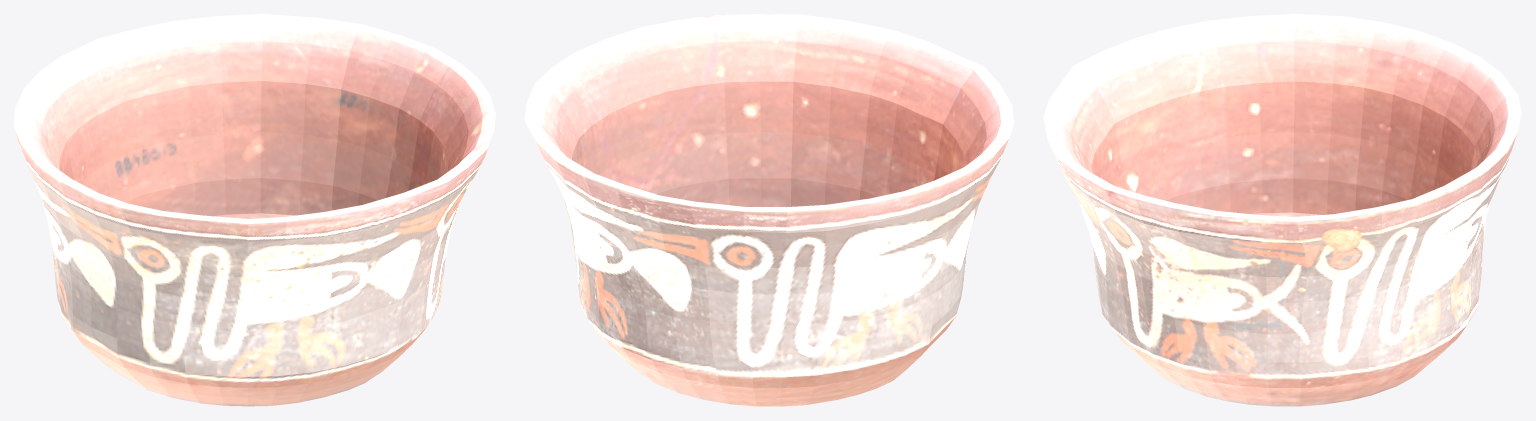
The model's file is objeto_9_nasca.glb.
3 renders of one model, left to right at view 1: azimuth 30°, elevation 25°; view 2: azimuth 150°, elevation 25°; view 3: azimuth 270°, elevation 25°, orthographic.
Visible parts, largest first — view 1: Box001; view 2: Box001; view 3: Box001.
Boxes of the visible parts, x1,y1,x2,y2 form: Box001: (14, 14, 495, 406); Box001: (524, 14, 1014, 406); Box001: (1043, 14, 1521, 406).
Bounding box in the file's own units: 68.26 × 37.36 × 66.67.
